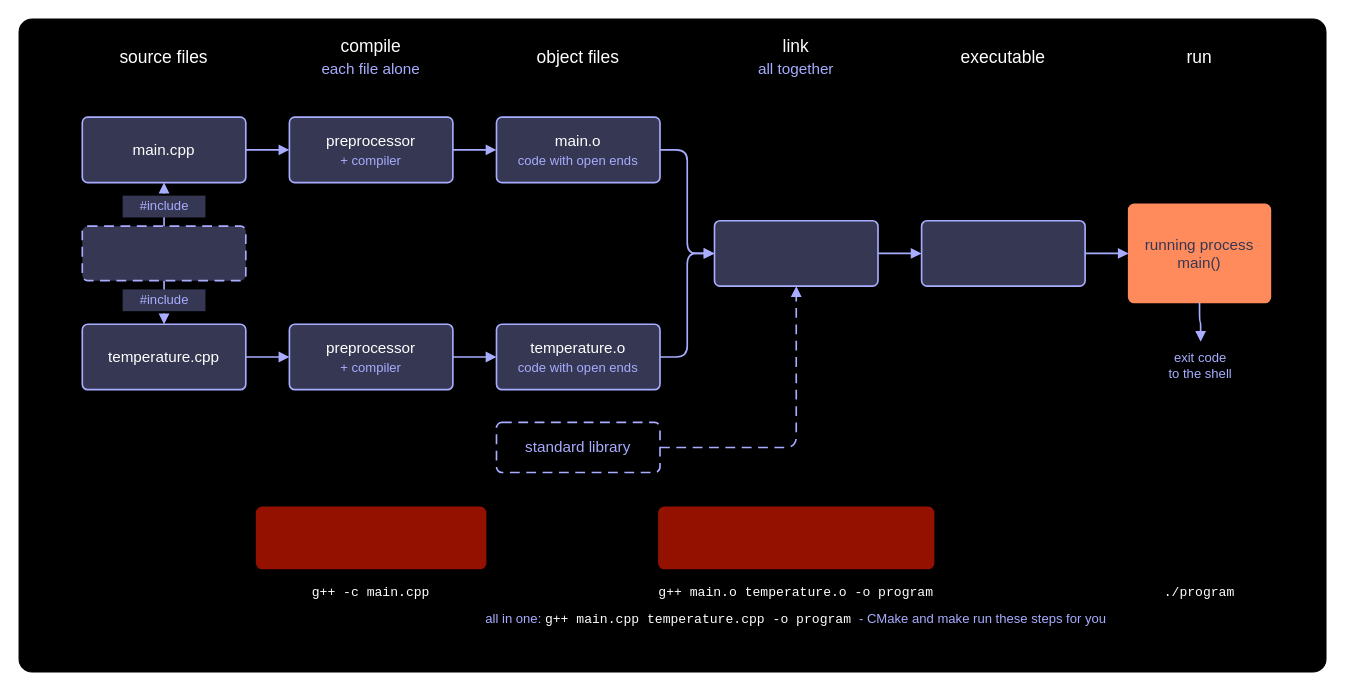
This 1345x691 diagram has some shape labels left out. Each missing label, with the box of its shape:
compiler errors typos, types - one file at a time: (255, 506, 486, 569)
linker: (713, 219, 878, 286)
linker errors undefined reference, multiple definition: (658, 506, 934, 569)
program a file on disk: (920, 219, 1085, 286)
temperature.hpp: (81, 225, 246, 281)
